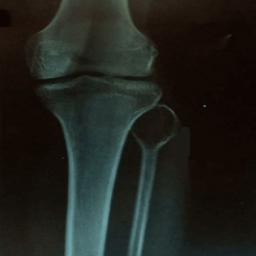cancer: (129, 107, 176, 151)
